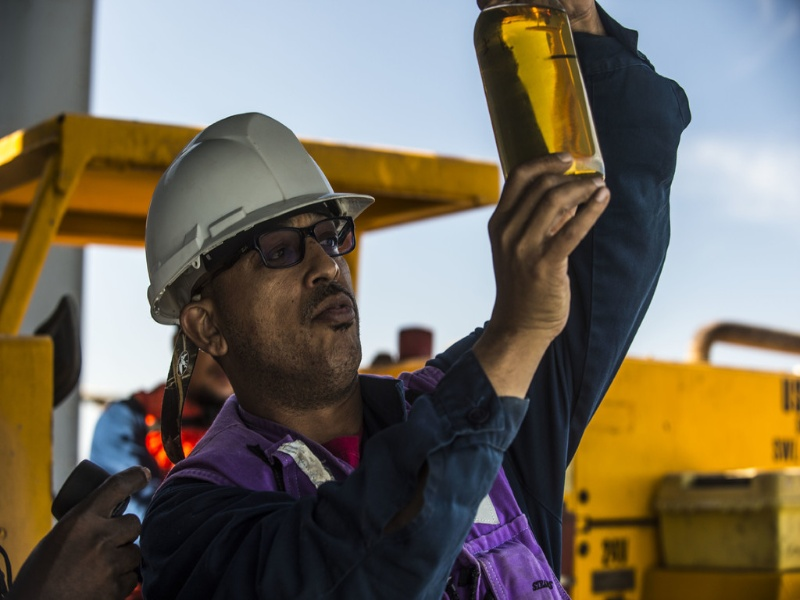Baret: (142, 111, 370, 244)
